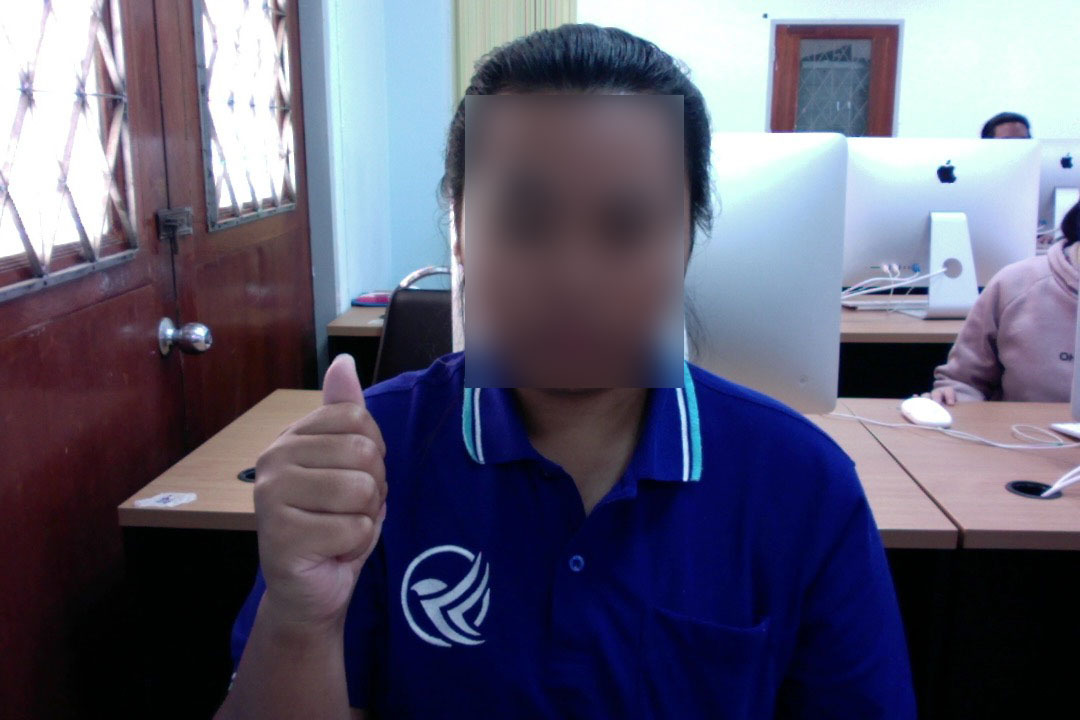or: (241, 349, 399, 617)
